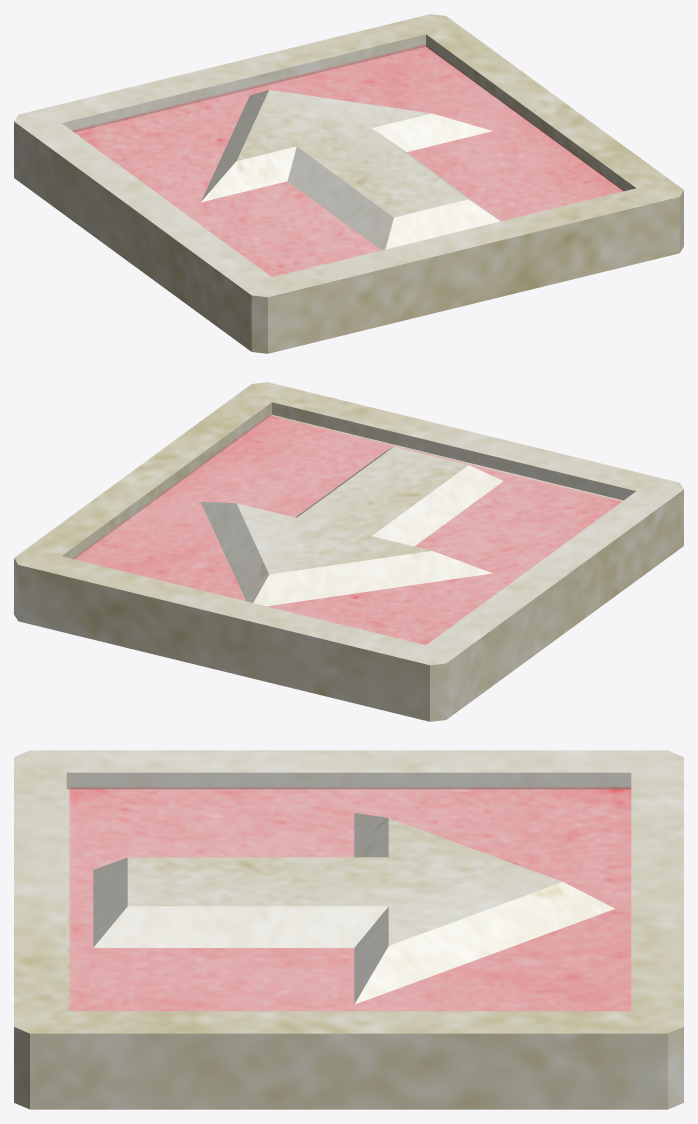
The model's file is Start.fbx.
3 renders of one model, top to bottom at view 1: azimuth 30°, elevation 25°; view 2: azimuth 150°, elevation 25°; view 3: azimuth 270°, elevation 25°, orthographic. The views are drawn at different scales.
Parts seen in each view (by area): view 1: Box009; view 2: Box009; view 3: Box009.
Boxes of the visible parts, left/top/right/bottom form: Box009: left=14, top=14, right=683, bottom=353; Box009: left=14, top=382, right=683, bottom=721; Box009: left=14, top=750, right=683, bottom=1109.
Bounding box in the file's own units: 31.5 × 4.46 × 31.5.
1 material, 1 textured.
